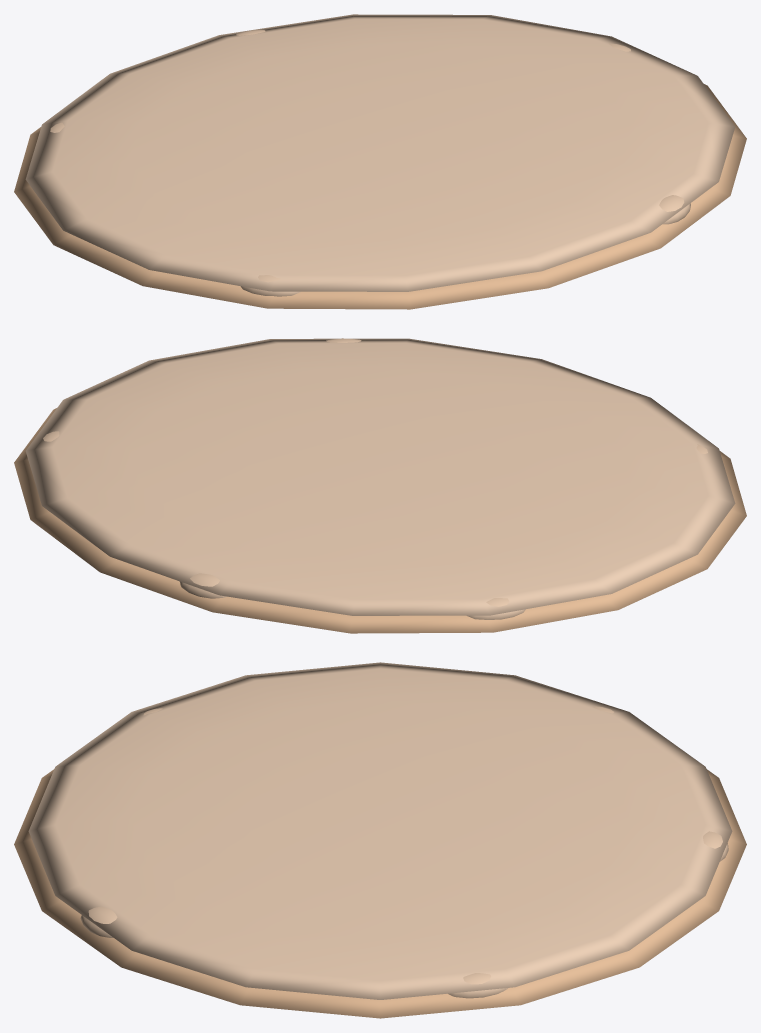
File: CMU3DFoodDoughPieCloud.glb
3 views of the same model, one above another, from view 1: azimuth 30°, elevation 25°; view 2: azimuth 150°, elevation 25°; view 3: azimuth 270°, elevation 25° (orthographic). The views are drawn at different scales.
Parts seen in each view (by area): view 1: pale rolled dough top, soft rolled pie dough lower edge, irregular soft dough edge 5; view 2: pale rolled dough top, soft rolled pie dough lower edge, irregular soft dough edge 2; view 3: pale rolled dough top, soft rolled pie dough lower edge, irregular soft dough edge 5, irregular soft dough edge 1.
Boxes of the visible parts, x1,y1,x2,y2 form: pale rolled dough top: [25, 14, 735, 291]; soft rolled pie dough lower edge: [14, 84, 746, 309]; irregular soft dough edge 5: [659, 195, 690, 224]; pale rolled dough top: [25, 338, 735, 615]; soft rolled pie dough lower edge: [14, 408, 746, 633]; irregular soft dough edge 2: [179, 573, 226, 598]; pale rolled dough top: [28, 662, 732, 999]; soft rolled pie dough lower edge: [14, 769, 746, 1018]; irregular soft dough edge 5: [80, 906, 117, 937]; irregular soft dough edge 1: [448, 973, 507, 998].
Bounding box in the file's own units: 0.735 × 0.0515 × 0.654.
